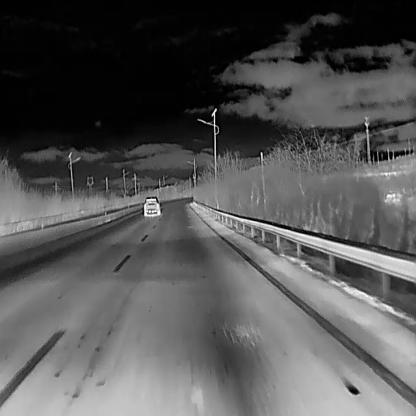car: (142, 194, 161, 216)
